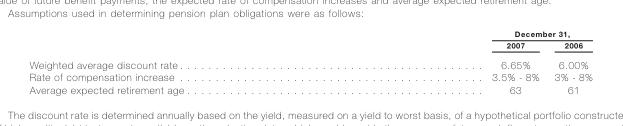table: (28, 28, 591, 95)
table column: (28, 28, 337, 95), (337, 28, 546, 95), (546, 28, 591, 95)
table column header: (28, 28, 591, 53)
table row: (28, 53, 591, 70), (28, 39, 591, 53), (28, 70, 591, 83), (28, 83, 591, 95), (28, 28, 591, 39)
table spanning cell: (337, 28, 591, 39)
